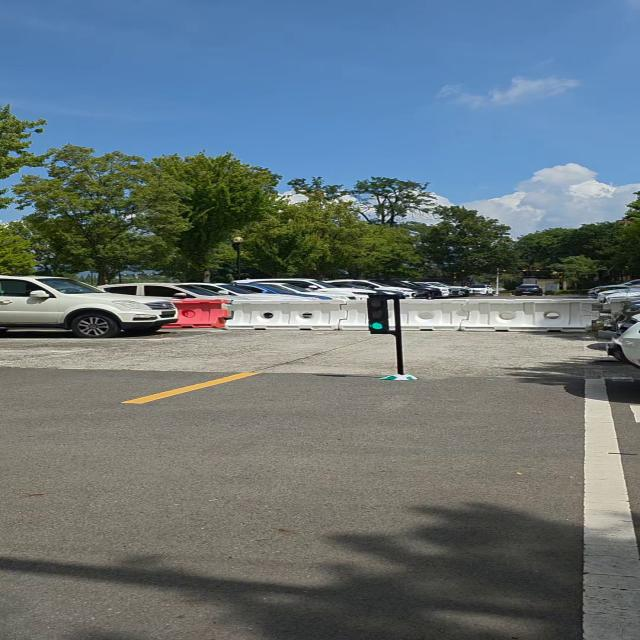green: (365, 292, 394, 333)
